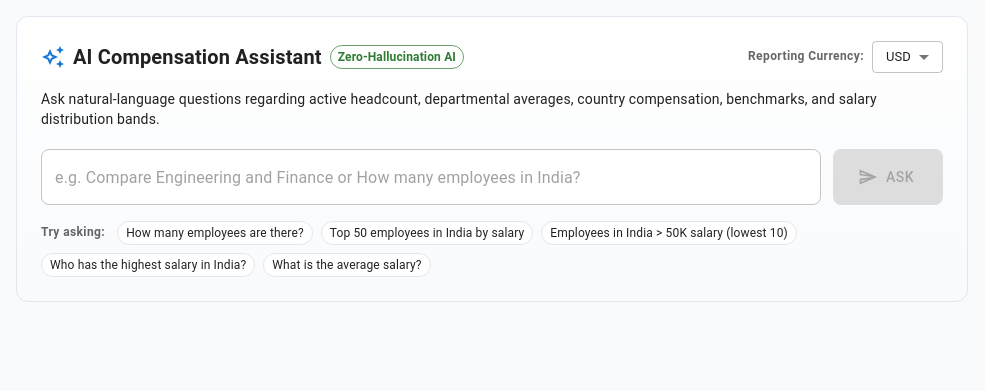
CompensationAssistant Component › displays error alert when service throws
This screenshot has width=985, height=391.
Type "Test query" into the field with placeholder "e.g. Compare Engineering and Finance" at (431, 177), box [41,149,821,205]
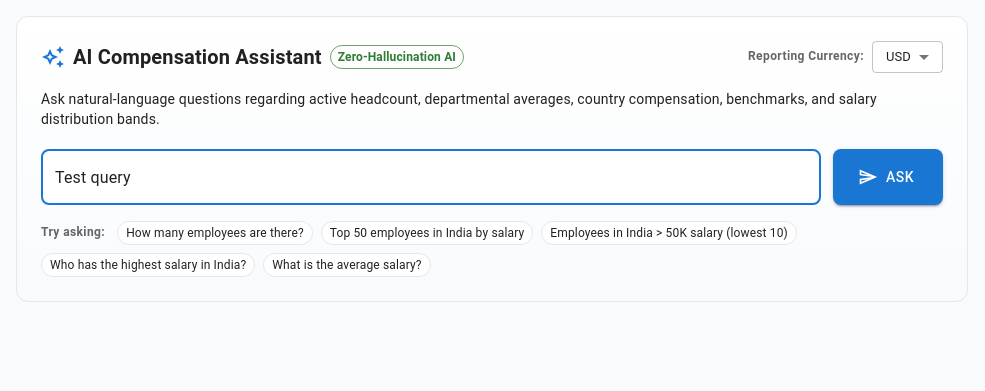
Click the button "Ask" at (888, 177), box [833,149,943,205]
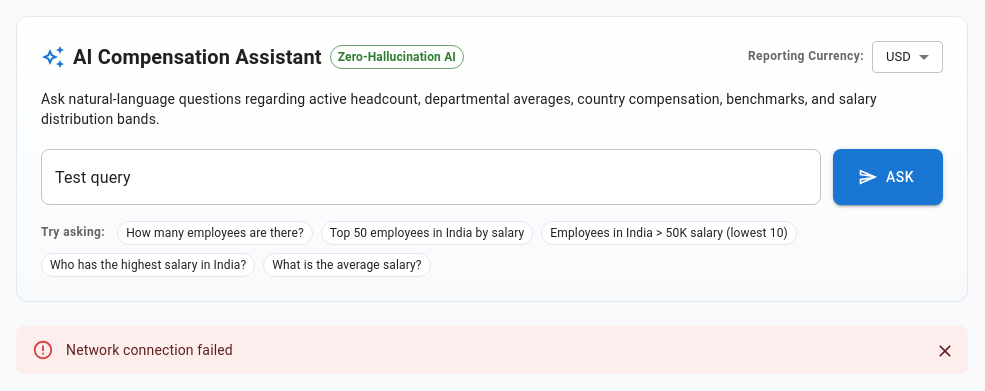
Expected: the text "Network connection failed" is shown, [66,342,233,358]
